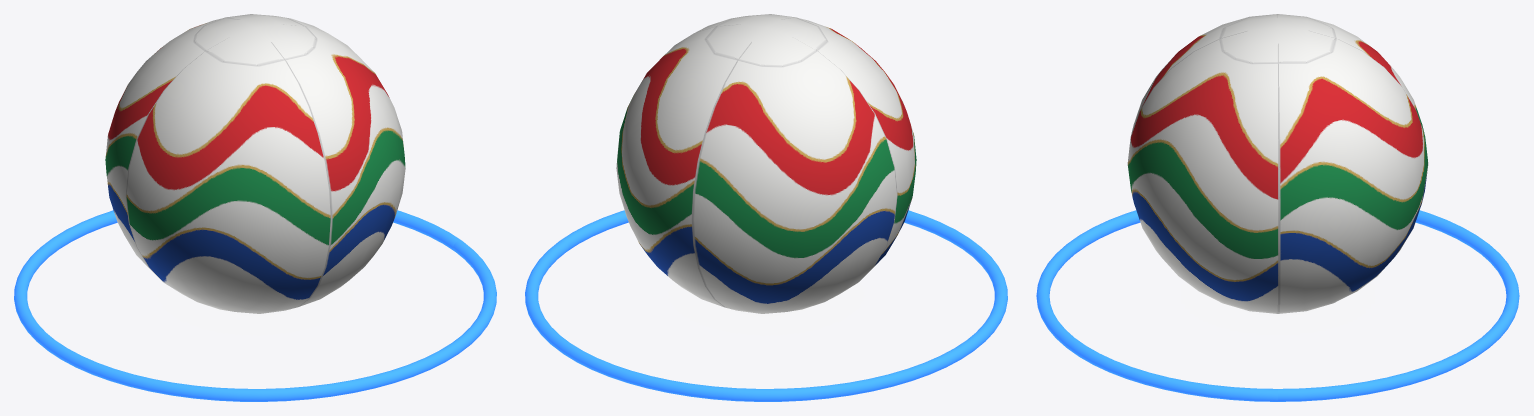
The model's file is adidas-trionda.glb.
3 views of the same model, side by side, from view 1: azimuth 30°, elevation 25°; view 2: azimuth 150°, elevation 25°; view 3: azimuth 270°, elevation 25° (orthographic).
Visible parts, largest first — view 1: Ball, Halo, Shadow; view 2: Ball, Halo, Shadow; view 3: Ball, Halo, Shadow.
Boxes of the visible parts, x1,y1,x2,y2 form: Ball: (105,14,405,313); Halo: (14,210,496,401); Shadow: (164,286,346,332); Ball: (616,14,916,313); Halo: (525,210,1007,401); Shadow: (675,286,857,332); Ball: (1127,14,1428,313); Halo: (1036,210,1519,401); Shadow: (1190,286,1365,331).
Bounding box in the file's own units: 0.1028 × 0.0644 × 0.1028.
Materials: 3 (2 with a texture image).
